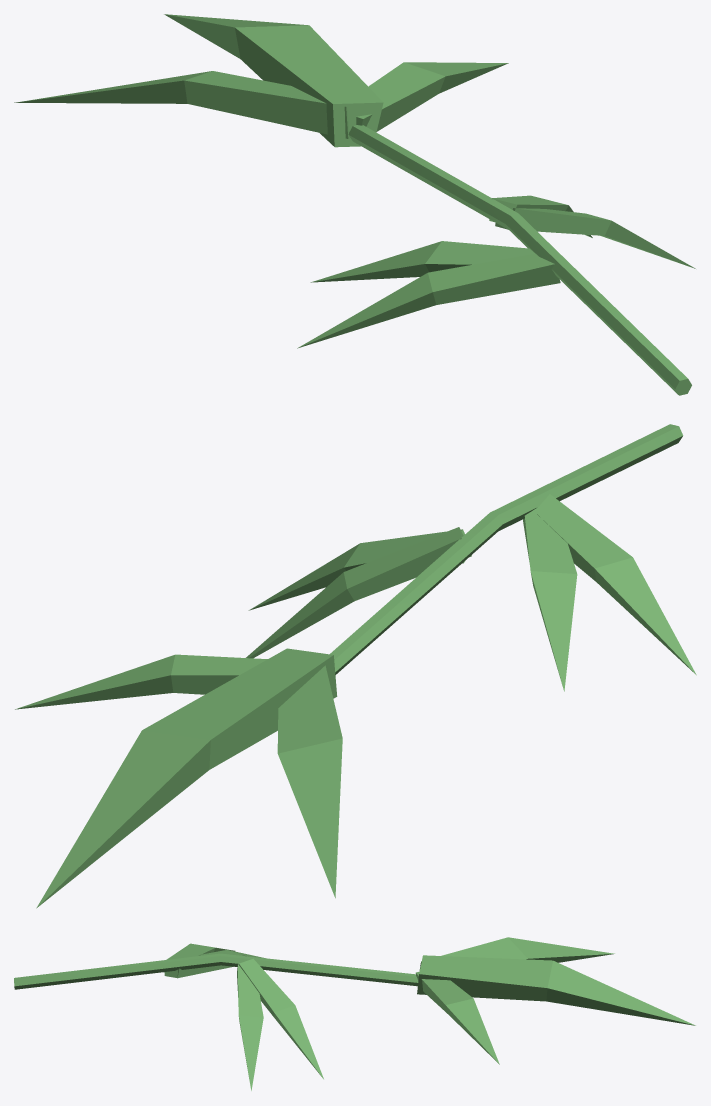
The model's file is bamboo-leaf2.FBX.
The picture shows the model from 3 angles, top to bottom: view 1: azimuth 30°, elevation 25°; view 2: azimuth 150°, elevation 25°; view 3: azimuth 270°, elevation 25°; orthographic projection. The views are drawn at different scales.
Visible parts, largest first — view 1: bamboo-leaf2; view 2: bamboo-leaf2; view 3: bamboo-leaf2.
Part boxes in pixels (left/top/right/bottom): bamboo-leaf2: left=14, top=14, right=695, bottom=395; bamboo-leaf2: left=15, top=424, right=696, bottom=908; bamboo-leaf2: left=14, top=937, right=695, bottom=1090.
Bounding box in the file's own units: 27.68 × 7.8 × 62.76.
